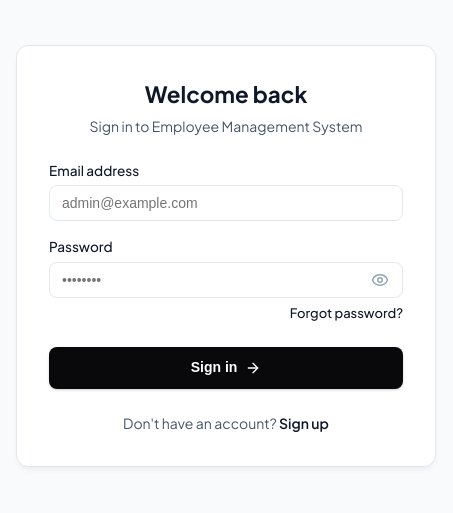
Scenario: Login Component › shows error if submitted with invalid email format
This screenshot has width=453, height=513.
Type "not-an-email" into the field labelled "Email address" at (226, 203), box [49, 185, 403, 221]
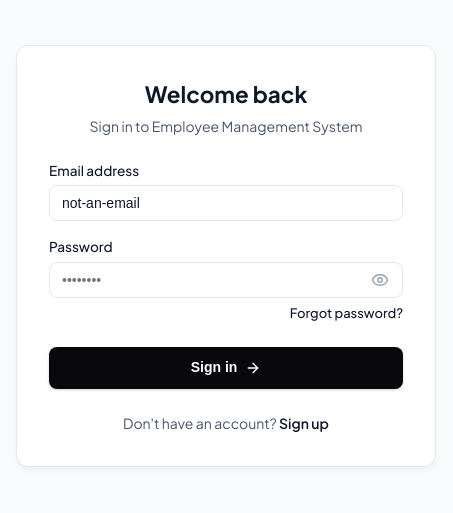
Type "password123" into the password field labelled "Password" at (226, 280), box [49, 262, 403, 298]
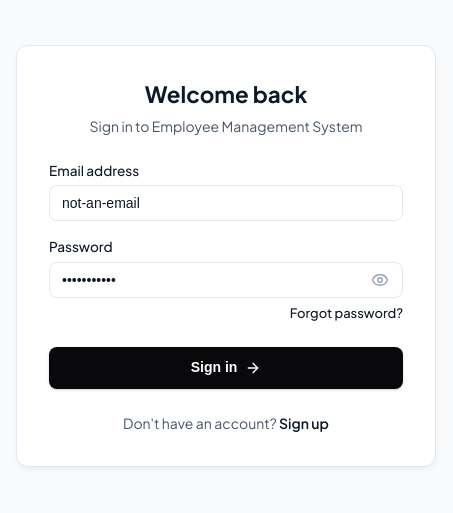
Submit the form, box [49, 161, 403, 389]
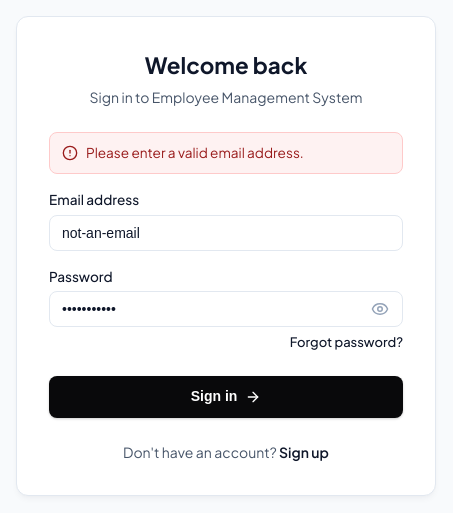
Expected: the text "Please enter a valid email address." is shown, [86, 143, 304, 163]
